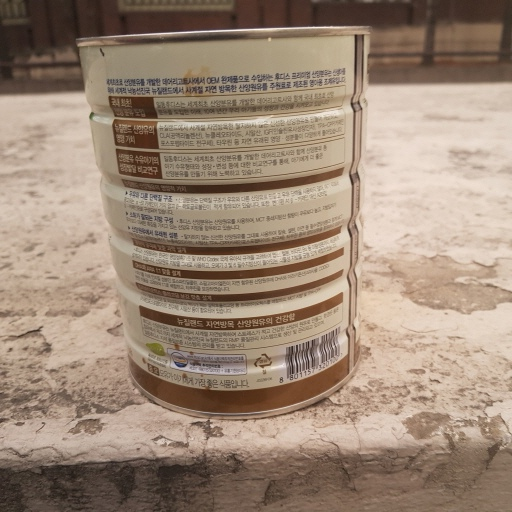Metal_1: (74, 24, 372, 420)
